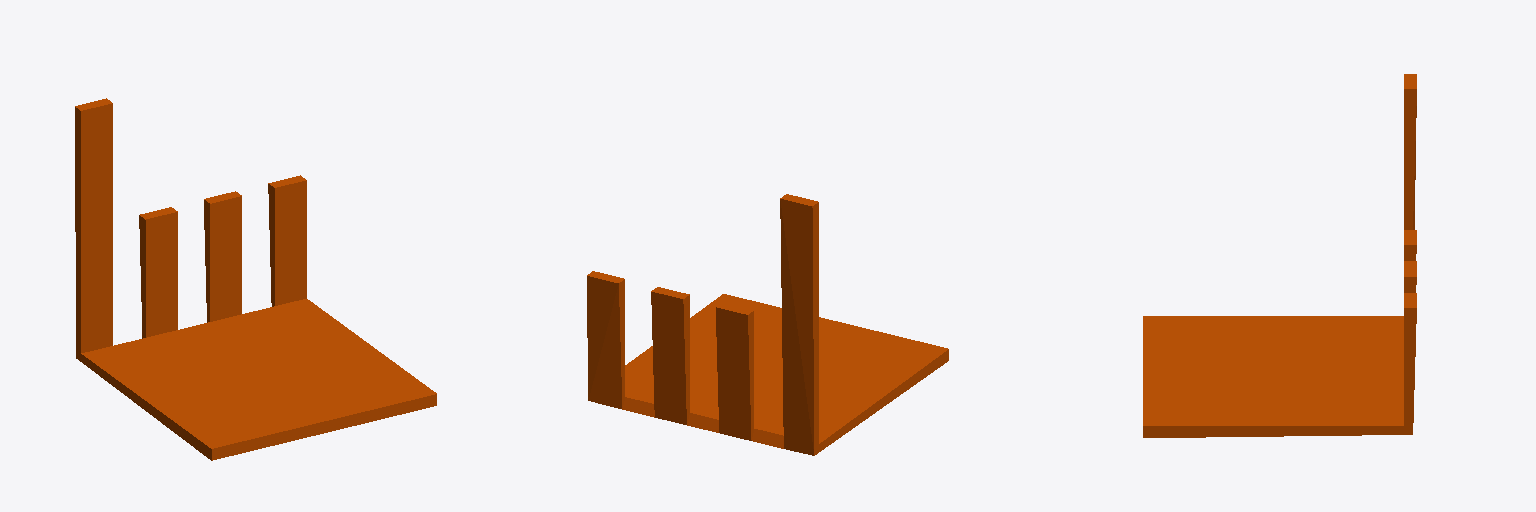
The model's file is shadow_test.obj.
3 views of the same model, side by side, from view 1: azimuth 30°, elevation 25°; view 2: azimuth 150°, elevation 25°; view 3: azimuth 270°, elevation 25° (orthographic).
Visible parts, largest first — view 1: shit; view 2: shit; view 3: shit.
Part boxes in pixels (bbox=[...]): shit: bbox=[75, 98, 436, 460]; shit: bbox=[587, 194, 948, 455]; shit: bbox=[1143, 74, 1416, 437].
Size of the model in its own units: 120 by 129 by 126.